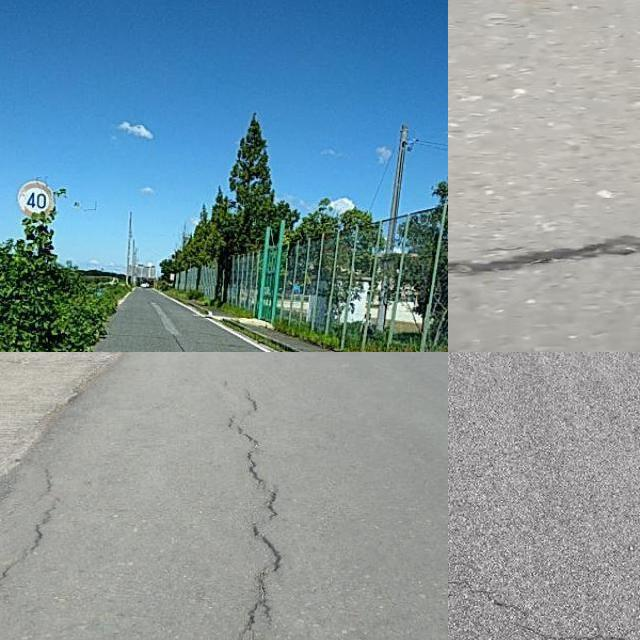Melintang: (448, 564, 640, 640), (448, 226, 640, 292)
Memanjang: (223, 384, 298, 640), (0, 462, 66, 598)
